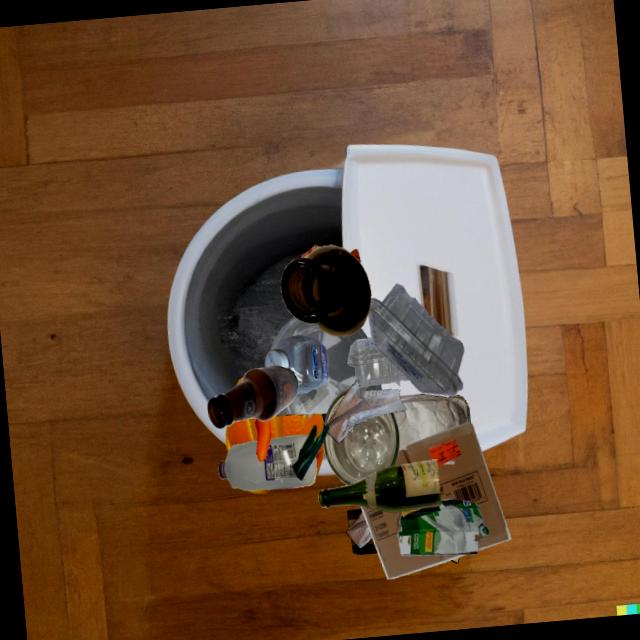biowaste: (240, 367, 316, 494), (291, 423, 329, 480), (255, 418, 271, 461)
cardboard: (394, 422, 511, 550), (360, 506, 466, 579), (397, 498, 489, 555), (351, 537, 377, 554), (347, 509, 362, 527)
glass: (280, 244, 371, 336), (318, 459, 441, 512), (207, 365, 297, 428), (331, 412, 399, 485), (332, 389, 366, 443), (305, 413, 321, 417)
metal: (392, 393, 469, 450)
paper: (326, 379, 406, 443), (346, 511, 372, 548)
plastic: (367, 283, 464, 395), (269, 315, 367, 415), (218, 434, 317, 490), (264, 334, 328, 393), (347, 337, 409, 387), (301, 245, 318, 257), (349, 249, 360, 263)
trash: (450, 557, 459, 563)
